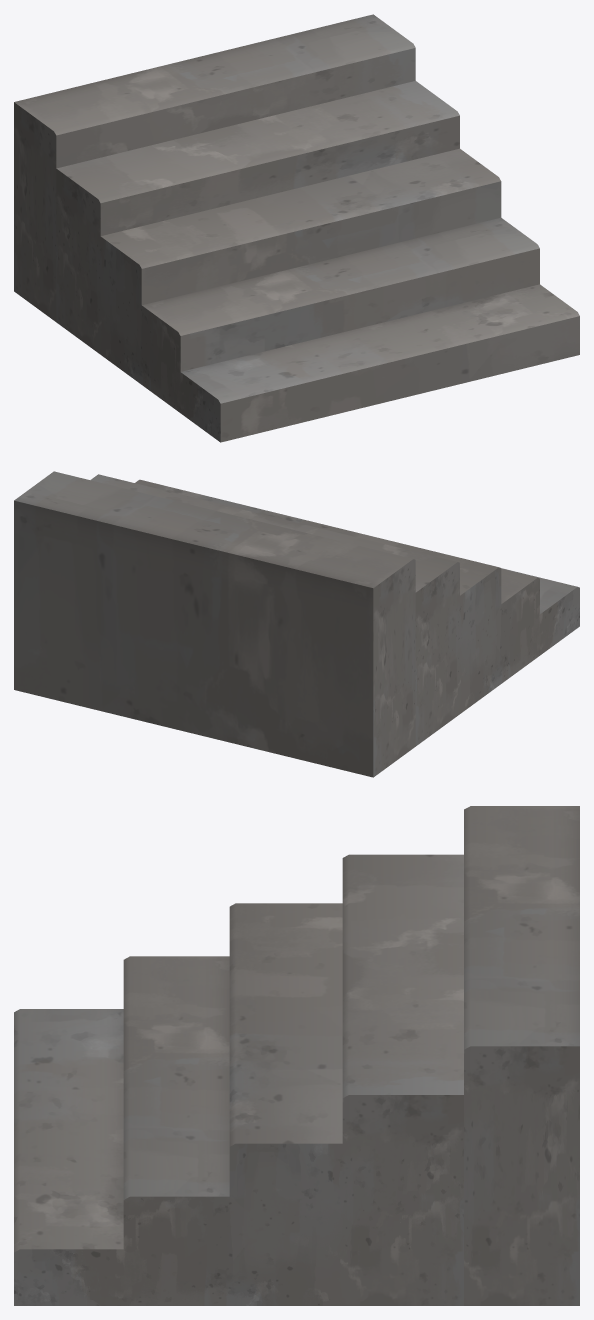
The model's file is Stairs_Entrance_Concrete.gltf.
3 views of the same model, one above another, from view 1: azimuth 30°, elevation 25°; view 2: azimuth 150°, elevation 25°; view 3: azimuth 270°, elevation 25° (orthographic). The views are drawn at different scales.
Parts seen in each view (by area): view 1: Stairs_Entrance_Concrete; view 2: Stairs_Entrance_Concrete; view 3: Stairs_Entrance_Concrete.
Part boxes in pixels (x1,y1,x2,y2): Stairs_Entrance_Concrete: (14,14,579,442); Stairs_Entrance_Concrete: (14,471,579,777); Stairs_Entrance_Concrete: (14,806,579,1305).
Size of the model in its own units: 2 by 1.01 by 1.99.
2 materials, 2 textured.
